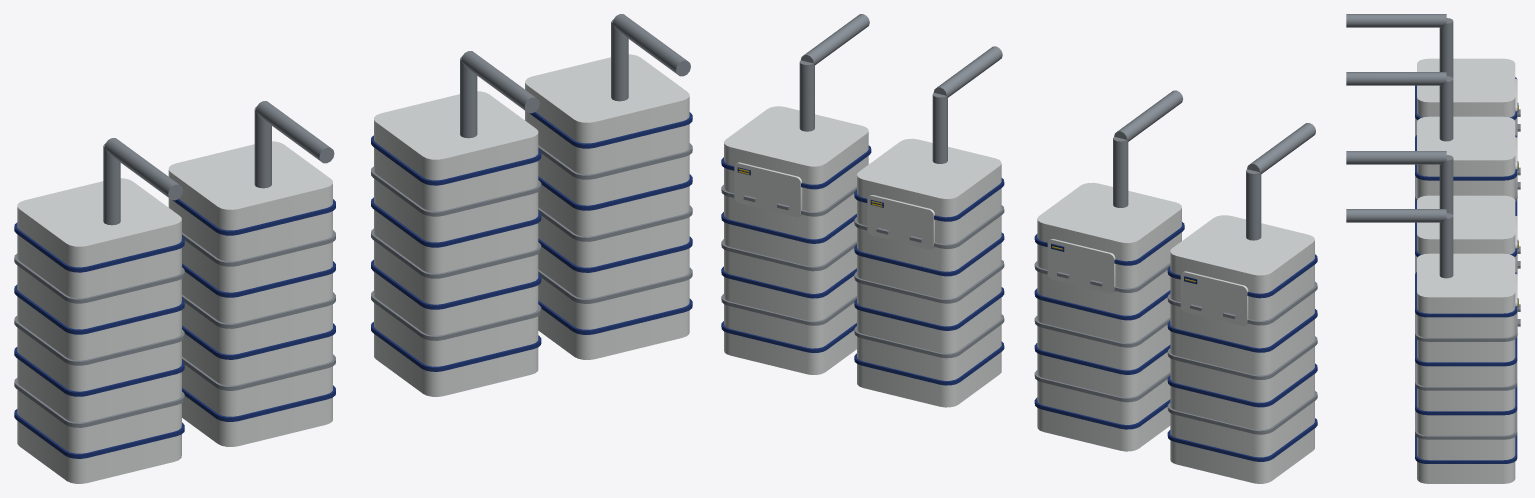
3 views of the same model, side by side, from view 1: azimuth 30°, elevation 25°; view 2: azimuth 150°, elevation 25°; view 3: azimuth 270°, elevation 25° (orthographic). The views are drawn at different scales.
Parts seen in each view (by area): view 1: l200_o2; view 2: l200_o2; view 3: l200_o2.
Boxes of the visible parts, x1=… form: l200_o2: x1=14, y1=14, x2=692, y2=483; l200_o2: x1=721, y1=14, x2=1317, y2=483; l200_o2: x1=1346, y1=14, x2=1520, y2=483.
Bounding box in the file's own units: 5.79 × 2.84 × 1.78.
